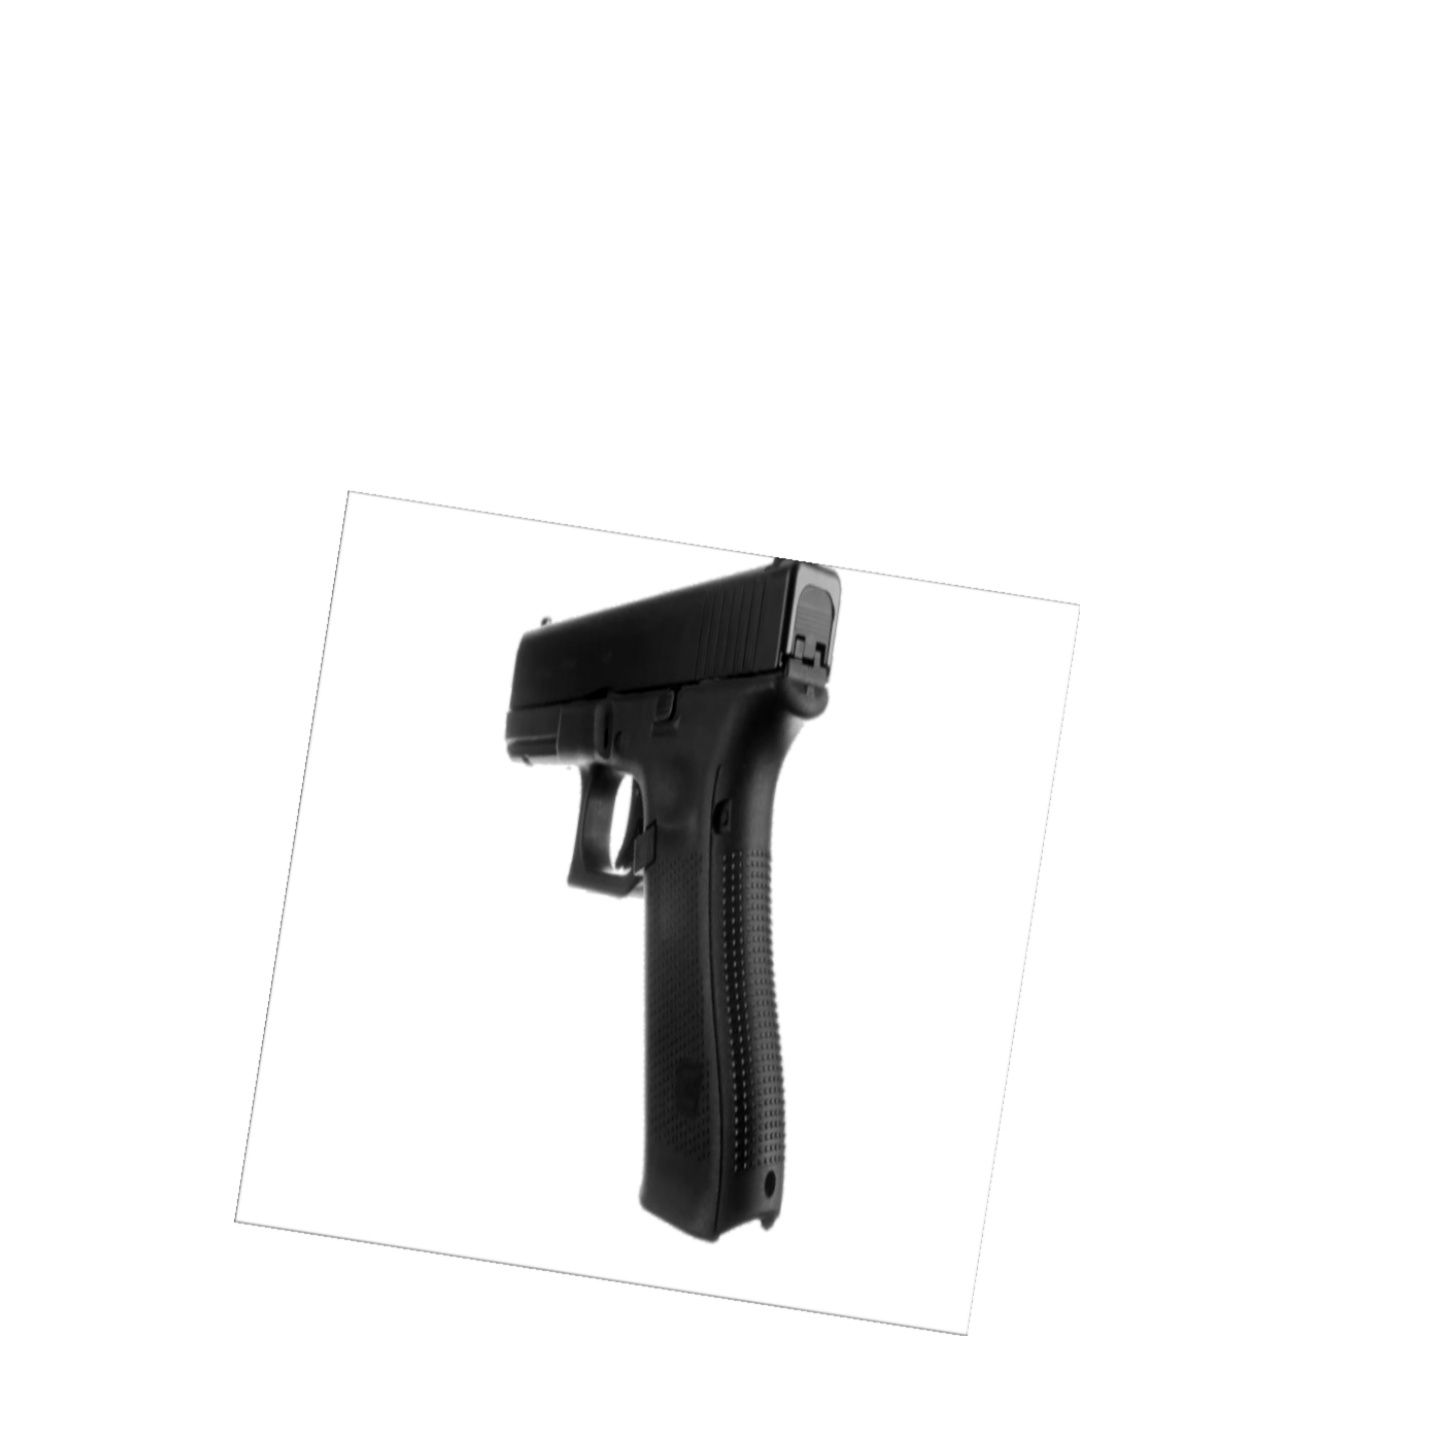gun: (508, 556, 843, 1246)
